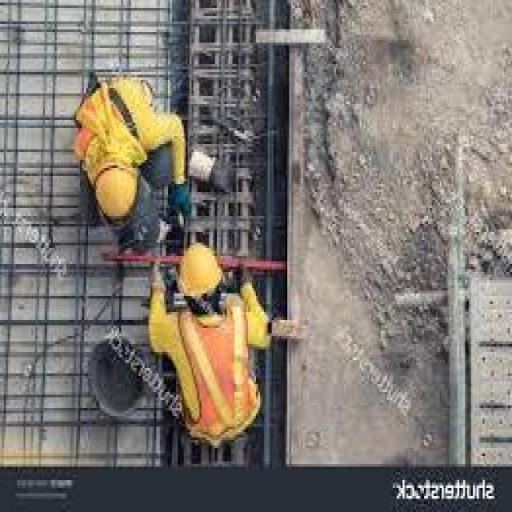helmet: (166, 234, 232, 310), (90, 154, 147, 232)
vest: (144, 285, 280, 445)
